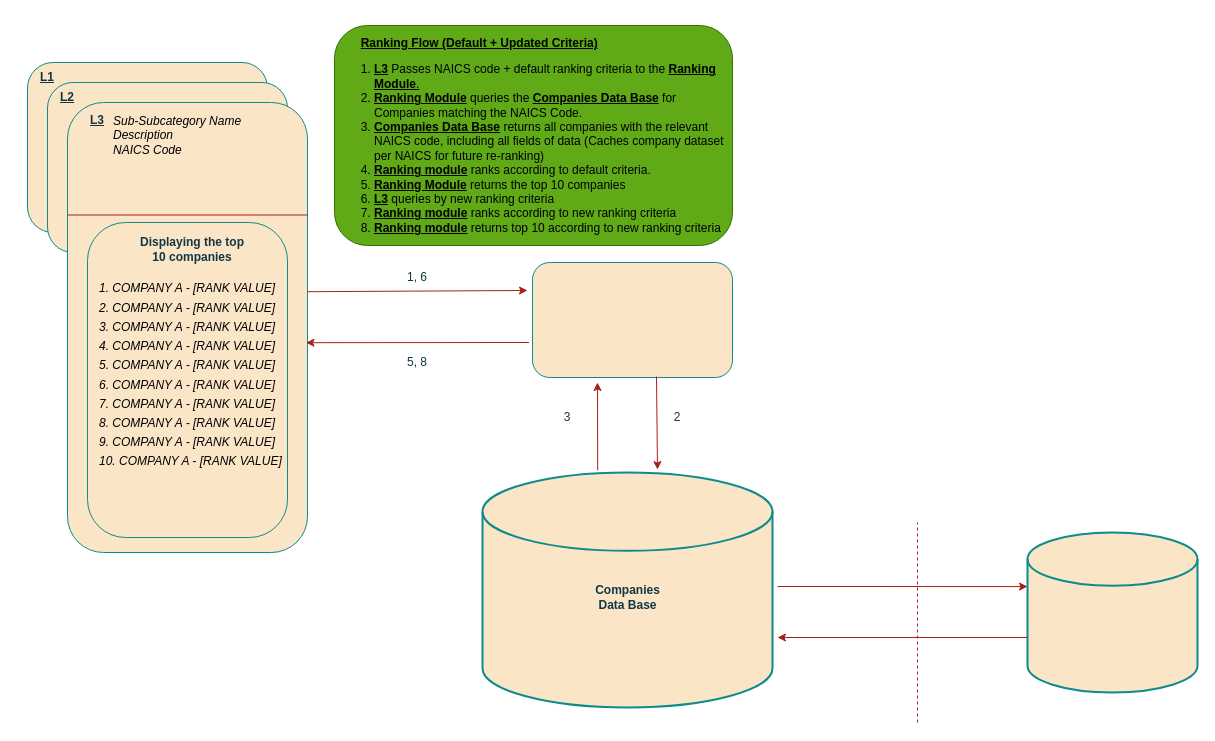
The diagram is 1215 pixels wide and 741 high, and some of its shapes have lost their labels. The shapes that lost their labels are listed below. From the top down, each one's box as (x1, y1, x2, y2) in pixels, then its label:
(532, 262, 732, 378): Ranking Module (4, 7) Lists and rank all companies with specific NAICS
(1026, 531, 1198, 693): External Data Bases
